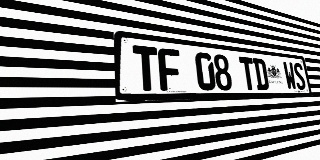0: (194, 52, 216, 91)
8: (212, 54, 233, 90)
D: (252, 58, 269, 90)
F: (157, 48, 182, 91)
S: (292, 62, 307, 90)
T: (132, 45, 160, 91), (239, 56, 257, 90)
W: (282, 61, 297, 90)
